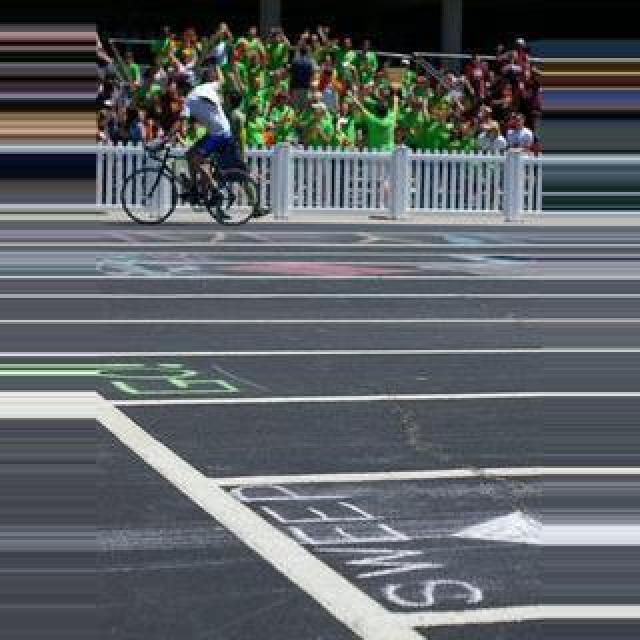MC-Bike: (178, 64, 242, 210)
Person: (120, 138, 262, 226)
